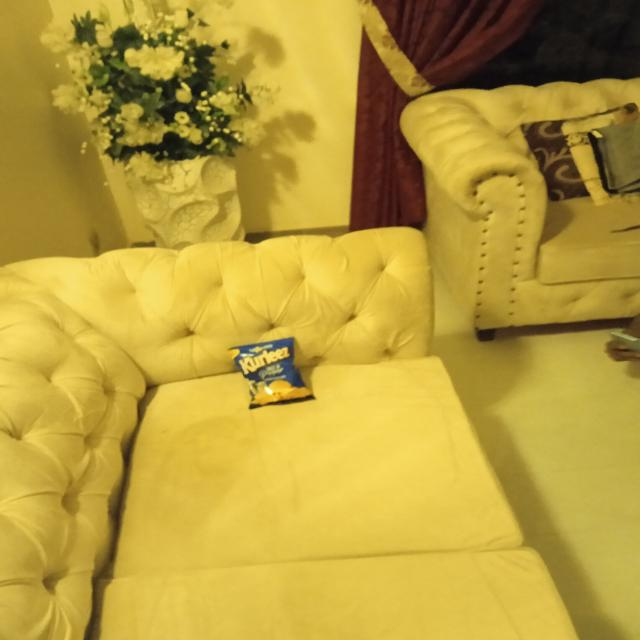Plastic: (232, 342, 314, 406)
